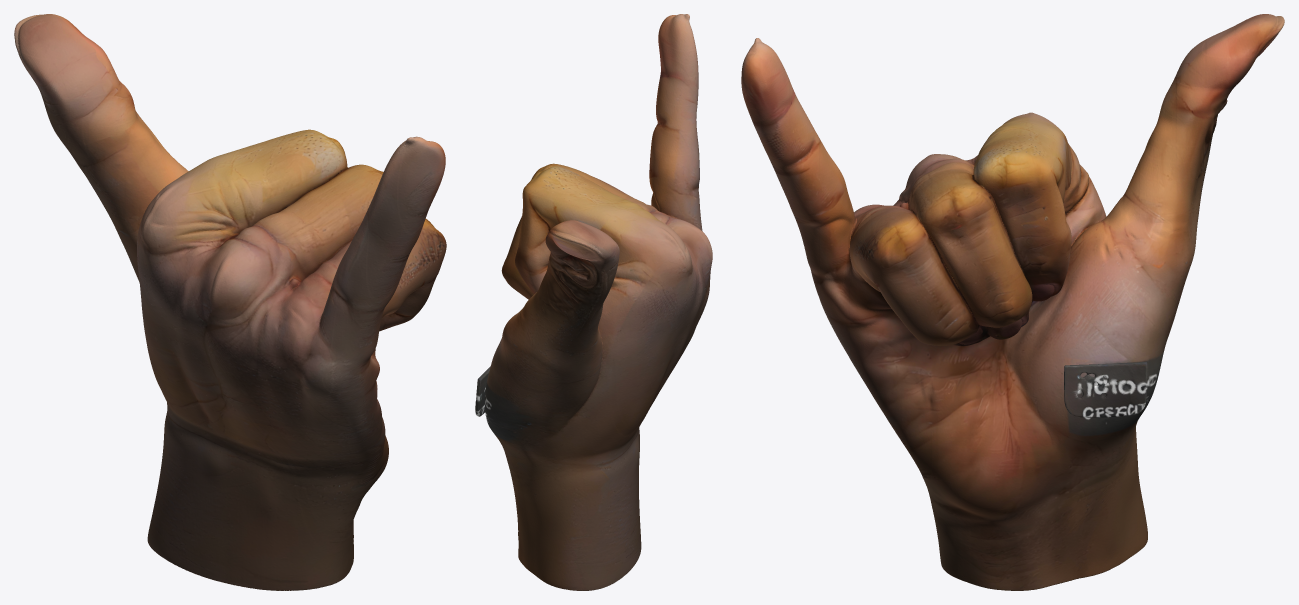
Rendered from letter_Y.glb.
The picture shows the model from 3 angles, left to right: view 1: azimuth 30°, elevation 25°; view 2: azimuth 150°, elevation 25°; view 3: azimuth 270°, elevation 25°; orthographic projection. The views are drawn at different scales.
Visible parts, largest first — view 1: tripo_node_42257ec5-f50e-4d95-b833-8b117f9e91f2; view 2: tripo_node_42257ec5-f50e-4d95-b833-8b117f9e91f2; view 3: tripo_node_42257ec5-f50e-4d95-b833-8b117f9e91f2.
Boxes of the visible parts, box(x1,y1,x2,y2) form: tripo_node_42257ec5-f50e-4d95-b833-8b117f9e91f2: box(14, 14, 446, 590); tripo_node_42257ec5-f50e-4d95-b833-8b117f9e91f2: box(475, 14, 712, 590); tripo_node_42257ec5-f50e-4d95-b833-8b117f9e91f2: box(741, 14, 1284, 590).
Size of the model in its own units: 0.5032 by 1 by 0.9421.
1 material, 1 textured.
